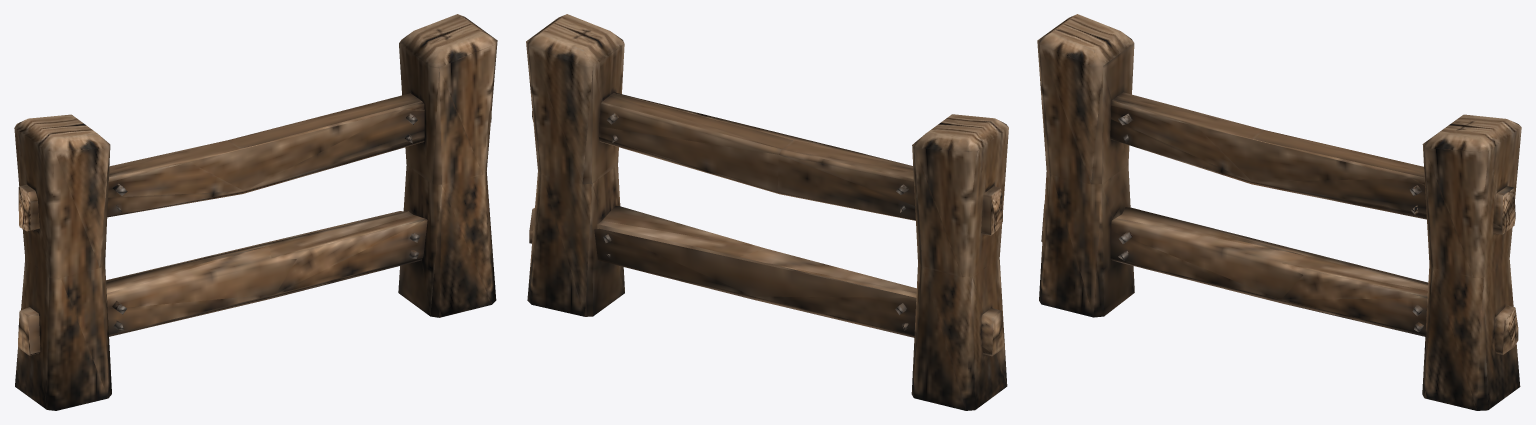
The model's file is prop_fence.glb.
The picture shows the model from 3 angles, left to right: view 1: azimuth 30°, elevation 25°; view 2: azimuth 150°, elevation 25°; view 3: azimuth 330°, elevation 25°; orthographic projection.
Size of the model in its own units: 3 by 1.67 by 0.44.
Materials: 1 (1 with a texture image).
